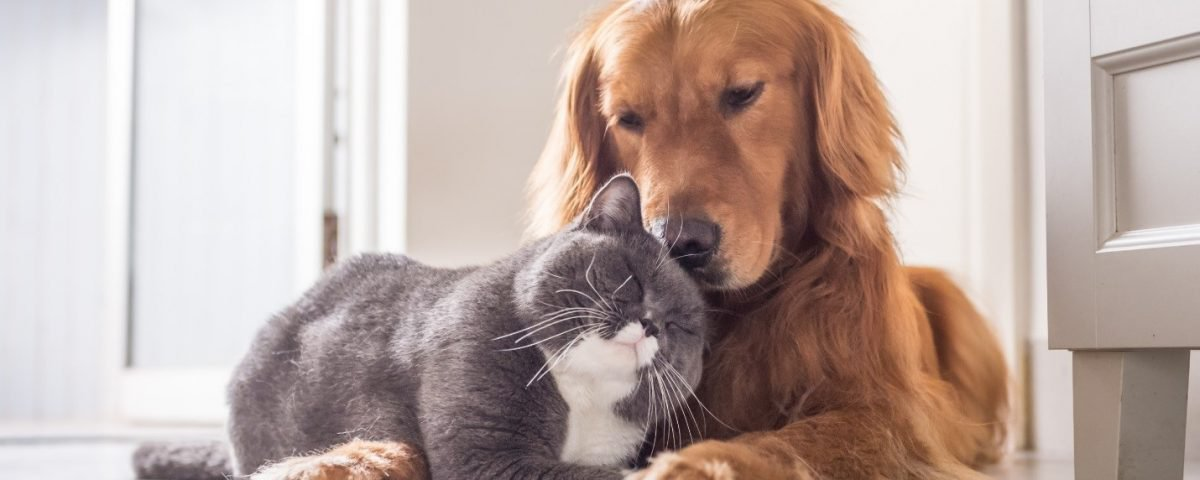cat: (211, 200, 708, 480)
dog: (576, 9, 1017, 471)
